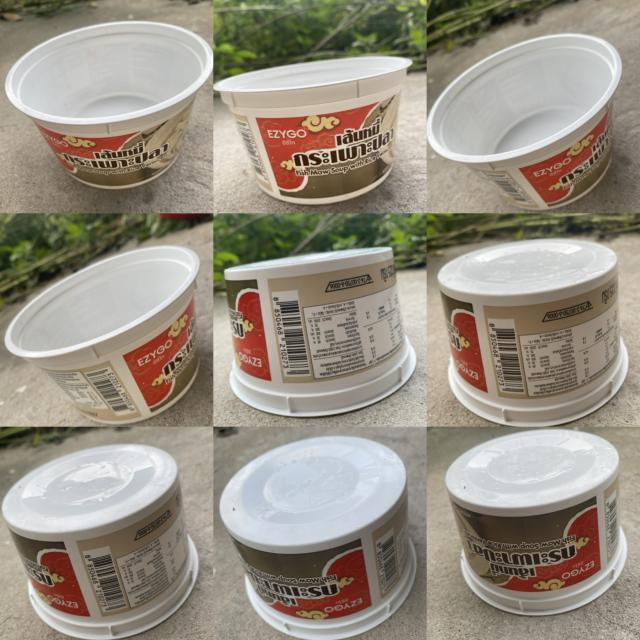Single-Use-Plastic: (220, 436, 416, 640), (2, 444, 199, 640), (438, 239, 629, 426), (5, 246, 200, 424), (5, 21, 212, 188), (445, 429, 628, 615), (428, 34, 621, 209), (225, 248, 416, 416), (215, 56, 411, 203)
